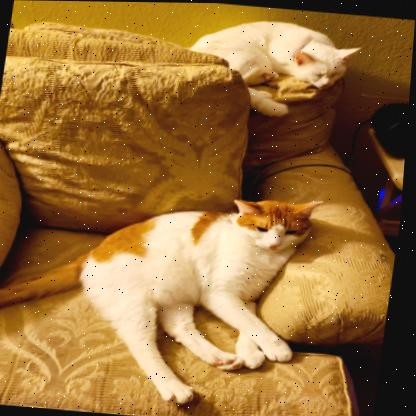cat: (75, 184, 316, 311)
